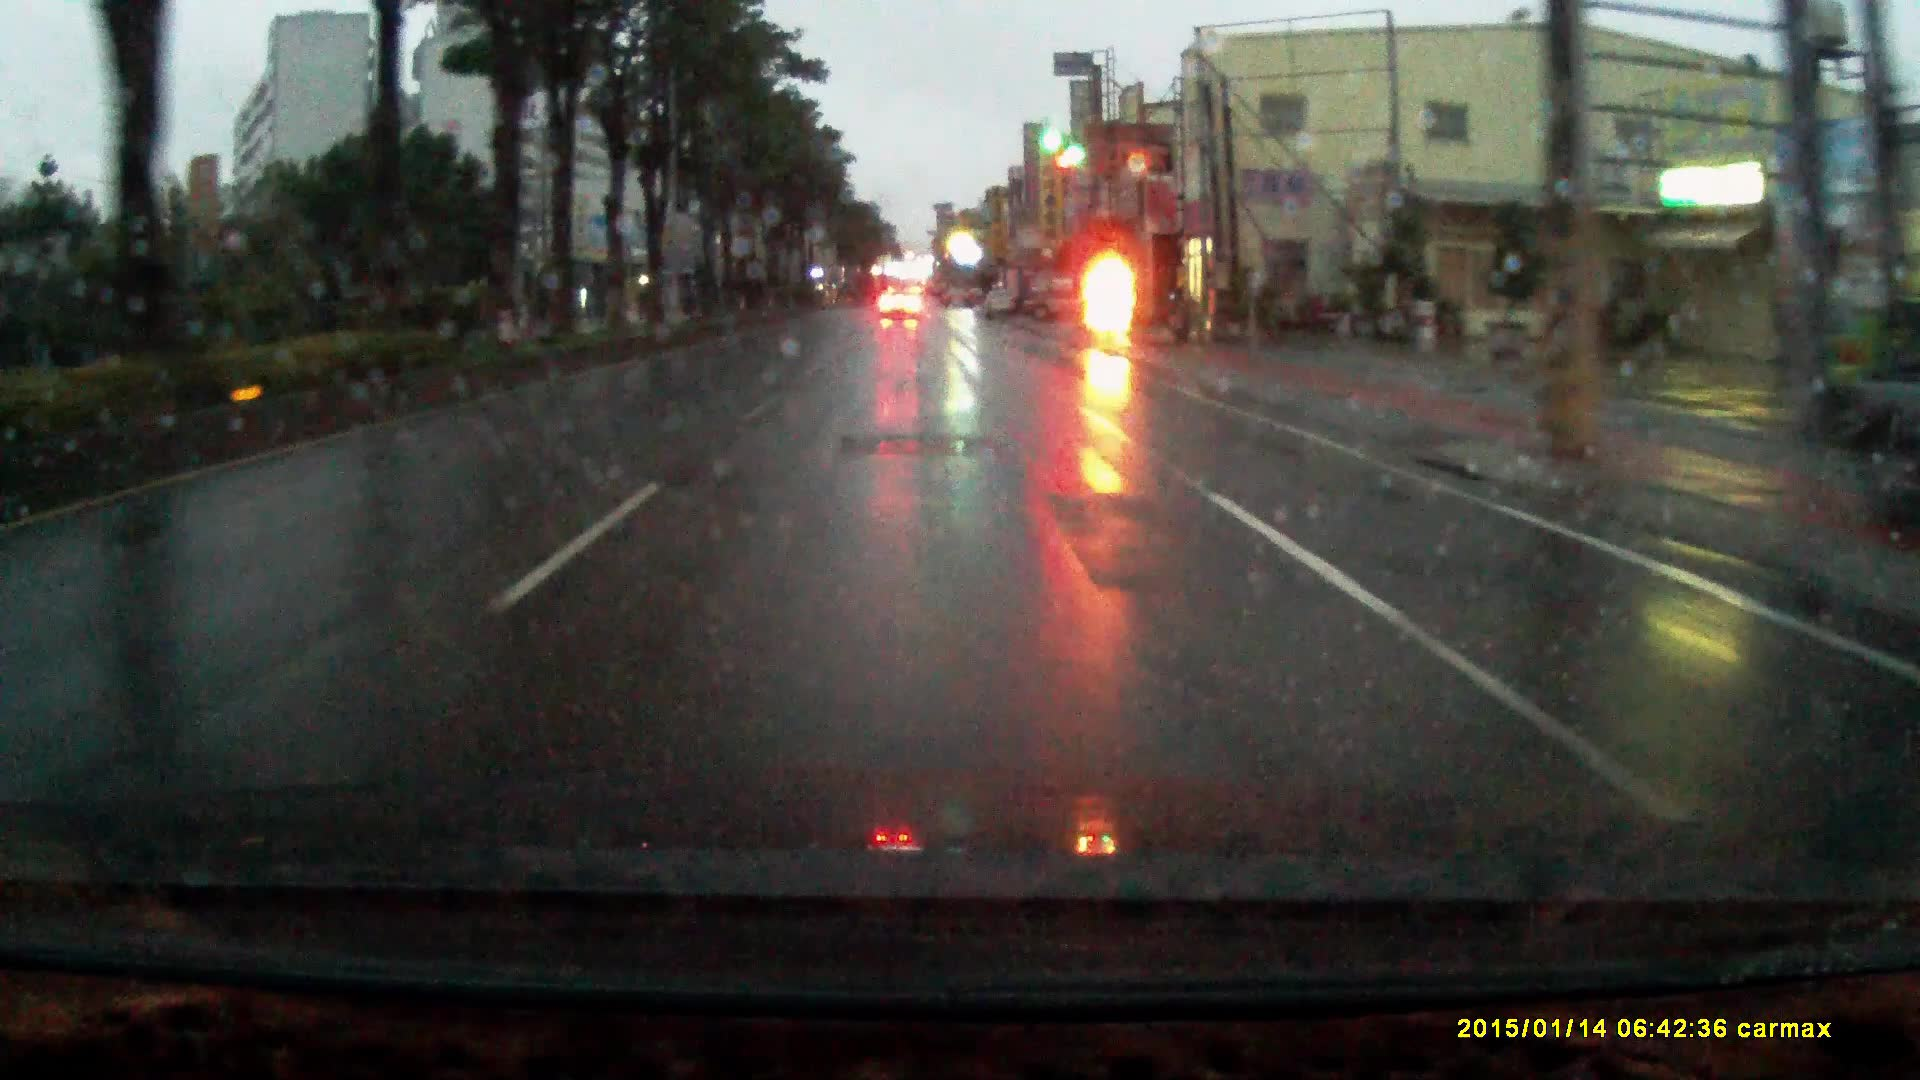vehicle: (1025, 277, 1101, 324), (880, 291, 926, 328)
